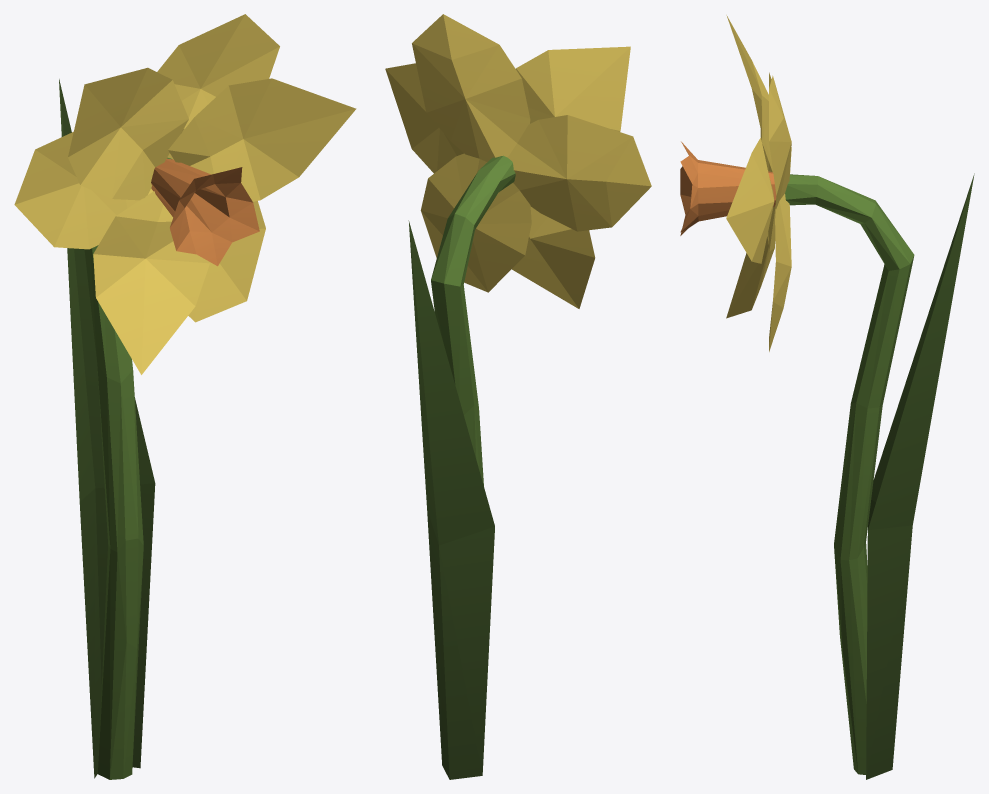
The model's file is Env_Daffodil_Middle_Detail_01.obj.
3 views of the same model, side by side, from view 1: azimuth 30°, elevation 25°; view 2: azimuth 150°, elevation 25°; view 3: azimuth 270°, elevation 25° (orthographic). The views are drawn at different scales.
Visible parts, largest first — view 1: Env_Daffodil_Middle_Detail_01; view 2: Env_Daffodil_Middle_Detail_01; view 3: Env_Daffodil_Middle_Detail_01.
Part boxes in pixels (left/top/right/bottom): Env_Daffodil_Middle_Detail_01: left=14, top=14, right=356, bottom=779; Env_Daffodil_Middle_Detail_01: left=385, top=14, right=651, bottom=779; Env_Daffodil_Middle_Detail_01: left=680, top=15, right=974, bottom=779.
Bounding box in the file's own units: 0.1887 × 0.4417 × 0.165.
Materials: 1 (1 with a texture image).
